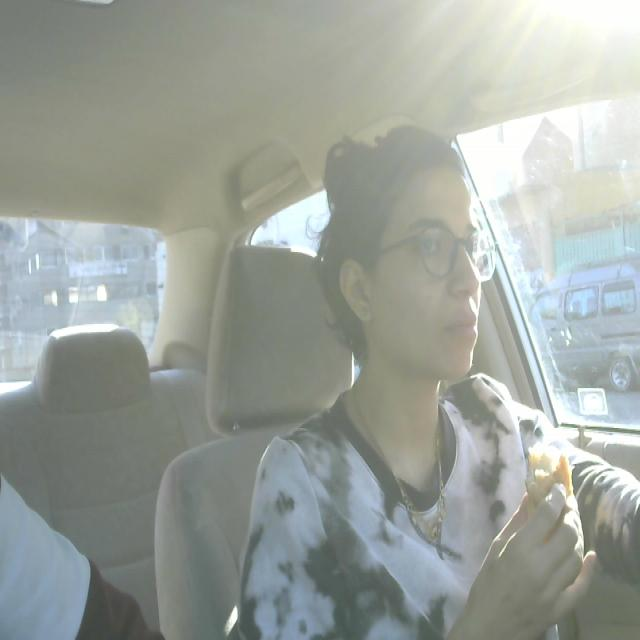eating: (513, 436, 586, 608)
